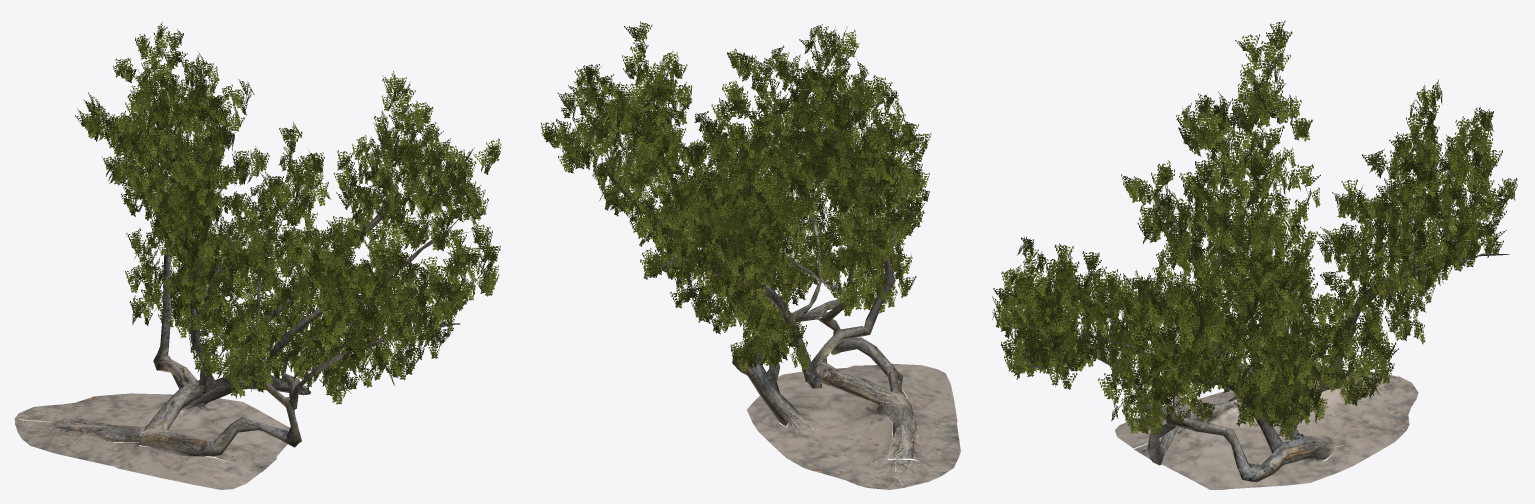
Rendered from island-tree.glb.
The picture shows the model from 3 angles, left to right: view 1: azimuth 30°, elevation 25°; view 2: azimuth 150°, elevation 25°; view 3: azimuth 270°, elevation 25°; orthographic projection. The views are drawn at different scales.
Parts seen in each view (by area): view 1: open_island_leaves, open_island_trunk; view 2: open_island_leaves, open_island_trunk; view 3: open_island_leaves, open_island_trunk, open_island_branches.
Boxes of the visible parts, bbox=[...] form: open_island_leaves: bbox=[75, 21, 501, 404]; open_island_trunk: bbox=[14, 152, 476, 489]; open_island_leaves: bbox=[541, 21, 931, 371]; open_island_trunk: bbox=[600, 118, 960, 489]; open_island_leaves: bbox=[992, 20, 1517, 441]; open_island_trunk: bbox=[1026, 190, 1509, 489]; open_island_branches: bbox=[1010, 41, 1497, 418].
Size of the model in its own units: 9.16 by 8.05 by 9.03.
3 materials, 3 textured.
